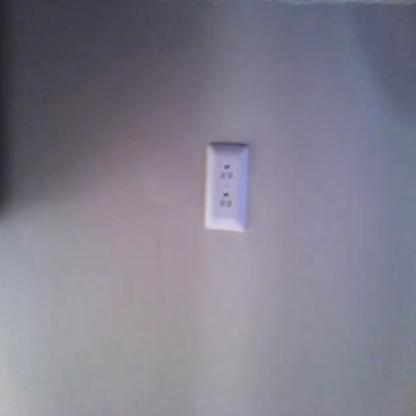OUTLET: (204, 146, 247, 231)
